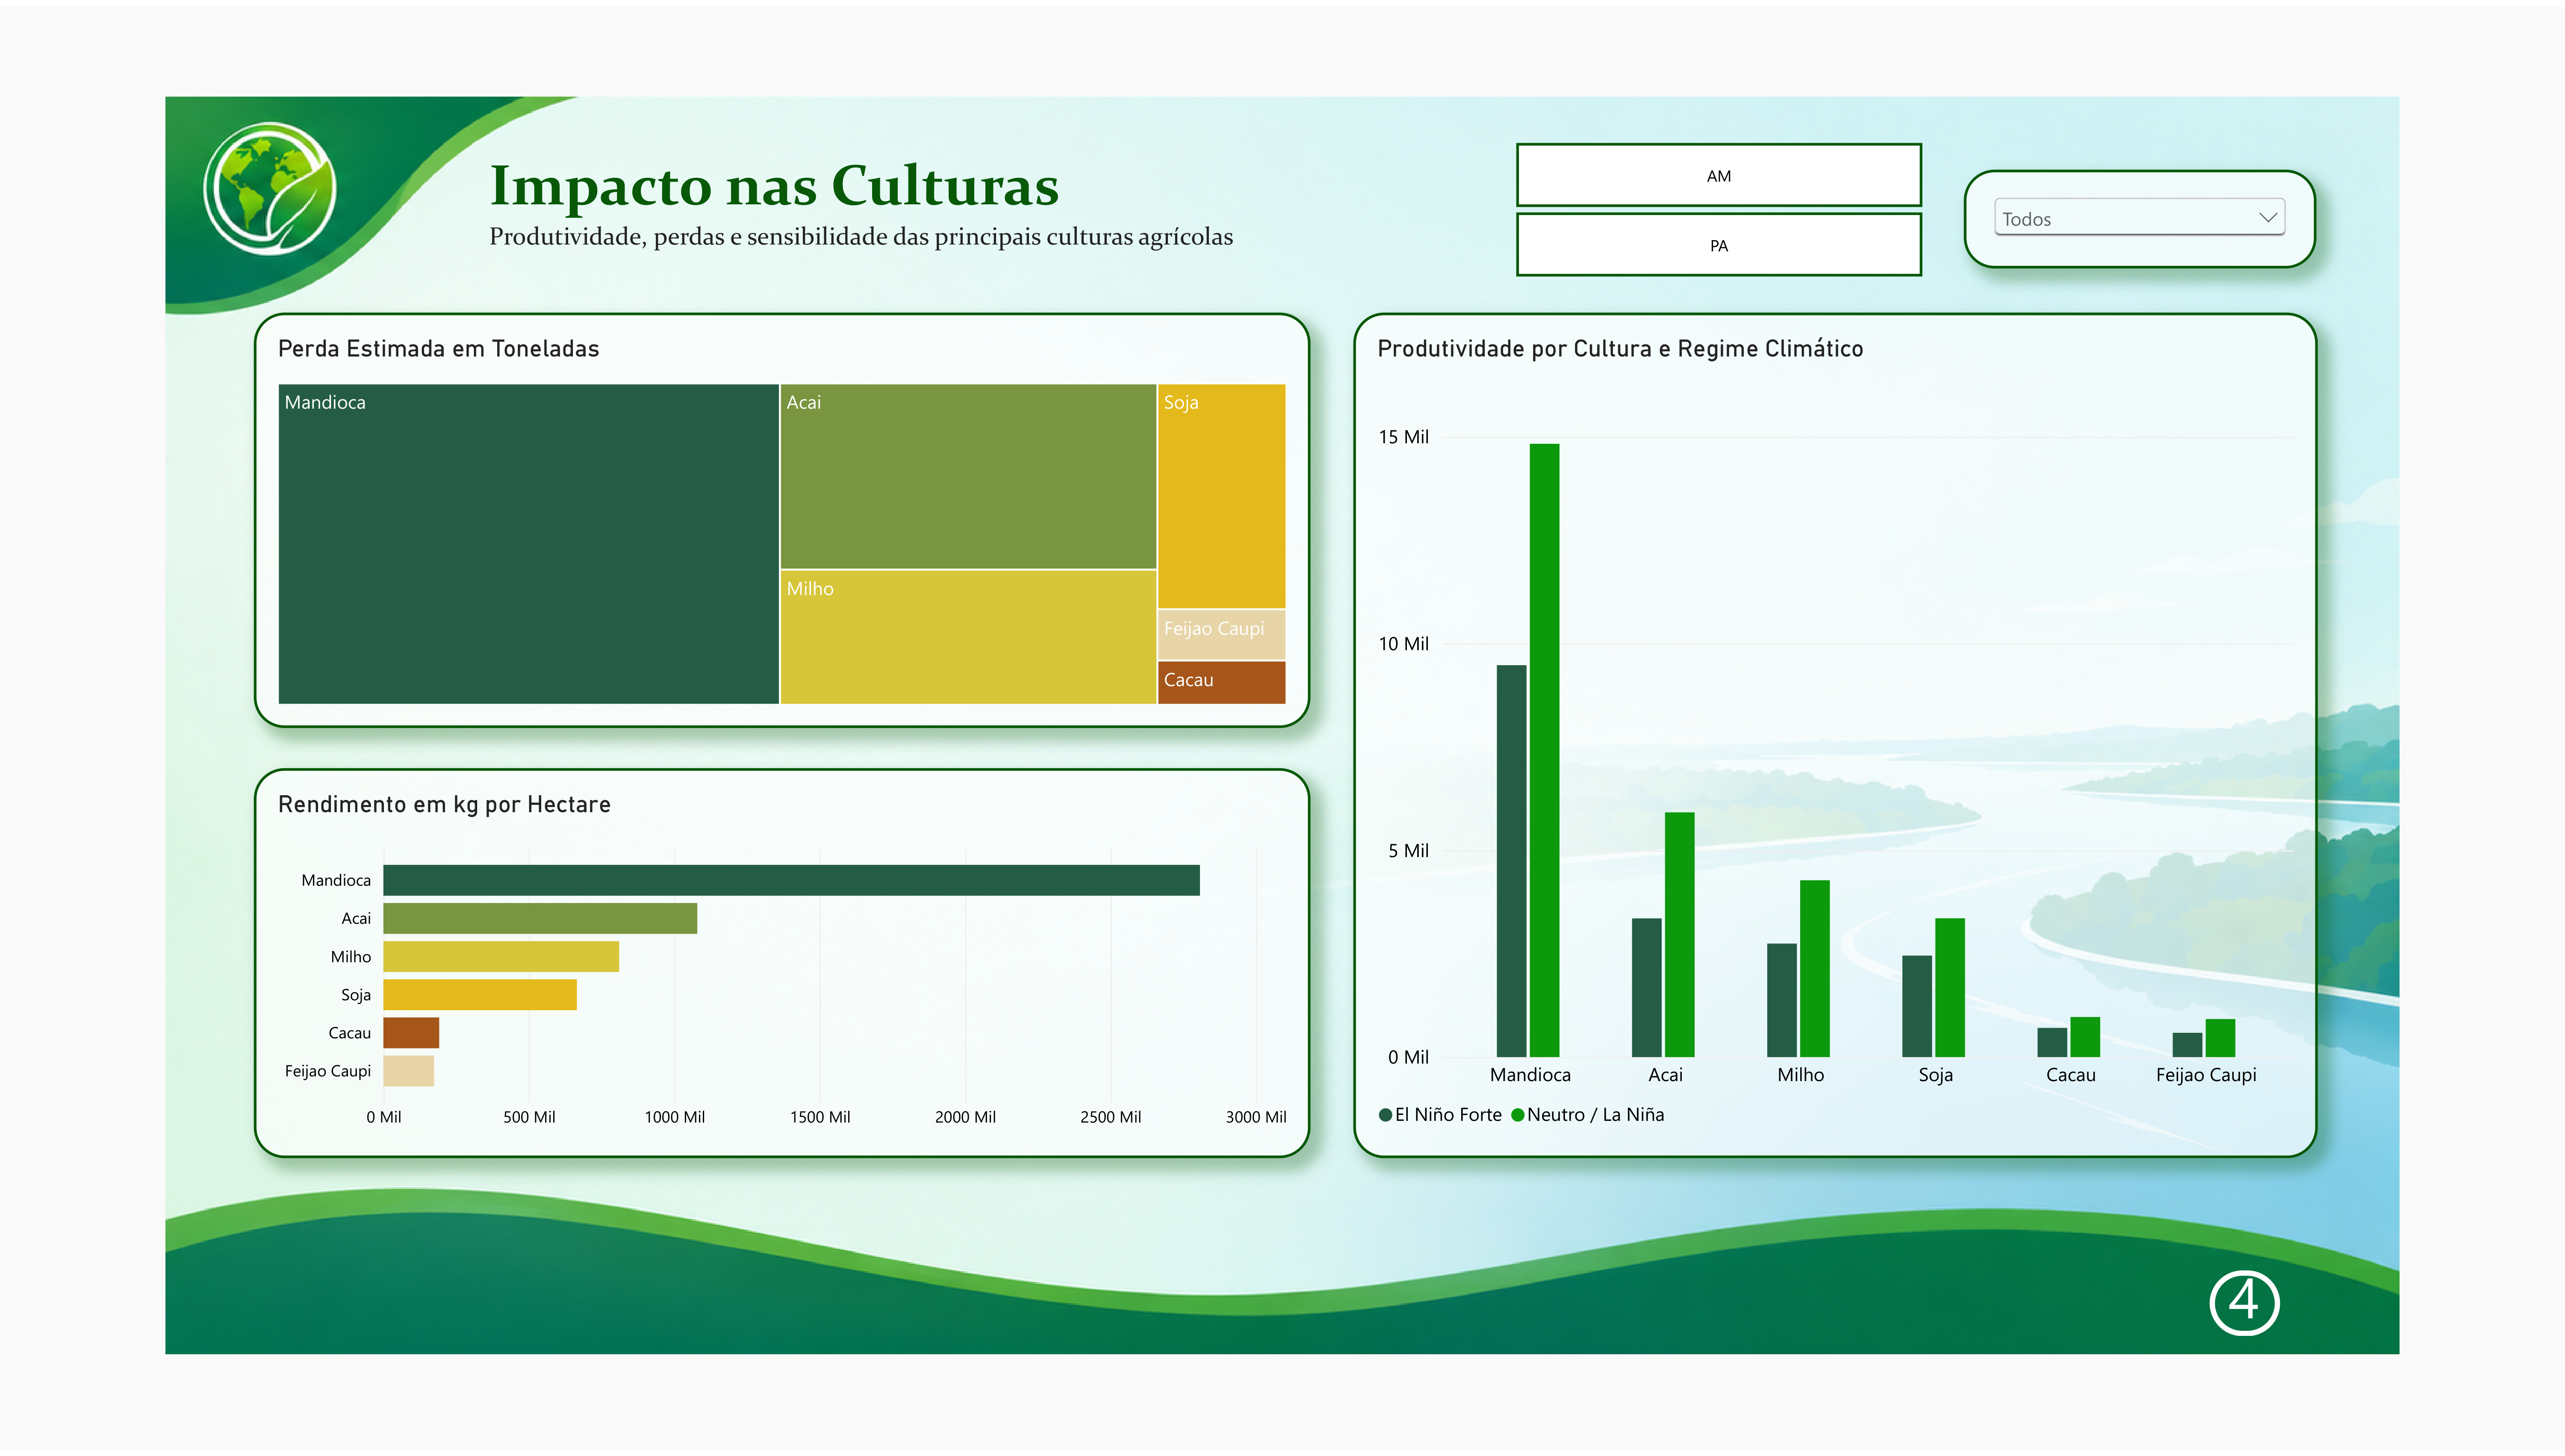

What the dashboard file says about the page in this screenshot:
{"tool":"powerbi","page":{"name":"Tela 3","canvas":[1920,1080],"ordinal":2},"visuals":[{"type":"clusteredColumnChart","title":"Soma de Produtividade Media por Cultura em Kg e Regime Climatico","fields":{"Category":["Quebras_por_regime_climatico.Cultura"],"Series":["Quebras_por_regime_climatico.Regime_Climatico"],"Y":["Sum(Quebras_por_regime_climatico.Produtividade_Media_kg)"]},"box":[1012.8,194.9,748.7,620.5],"z":0},{"type":"clusteredBarChart","fields":{"Category":["dim_cultura.Cultura"],"Y":["Sum(fato_safra_anual.Rendimento_kg_ha)"]},"box":[157.7,523.1,823.1,292.3],"z":1000},{"type":"treemap","title":"Perda Estimada em Toneladas","fields":{"Group":["dim_cultura.Cultura"],"Values":["Sum(fato_safra_anual.Perda_Estimada_Ton)"]},"box":[157.7,194.9,823.1,292.3],"z":2000},{"type":"slicer","fields":{"Values":["fato_safra_anual.UF"]},"box":[805.1,66.7,619.2,82.1],"z":3000},{"type":"slicer","fields":{"Values":["fato_safra_anual.Ano"]},"box":[1502.6,79.5,279.5,69.2],"z":4000},{"type":"textbox","box":[296.2,79.5,491,91],"z":4001}]}

Visuals, with their boxes in screenshot pixels (x1, y1, x2, y2), scaled from the page's 1920x1080 canvas onto the 2565x1456 screenshot:
"Soma de Produtividade Media por Cultura em Kg e Regime Climatico" clusteredColumnChart: box=[1353, 263, 2353, 1099]
clusteredBarChart - dim_cultura.Cultura x Sum(fato_safra_anual.Rendimento_kg_ha): box=[211, 705, 1310, 1099]
"Perda Estimada em Toneladas" treemap: box=[211, 263, 1310, 657]
slicer - fato_safra_anual.UF: box=[1076, 90, 1903, 200]
slicer - fato_safra_anual.Ano: box=[2008, 107, 2381, 200]
textbox: box=[396, 107, 1052, 230]
